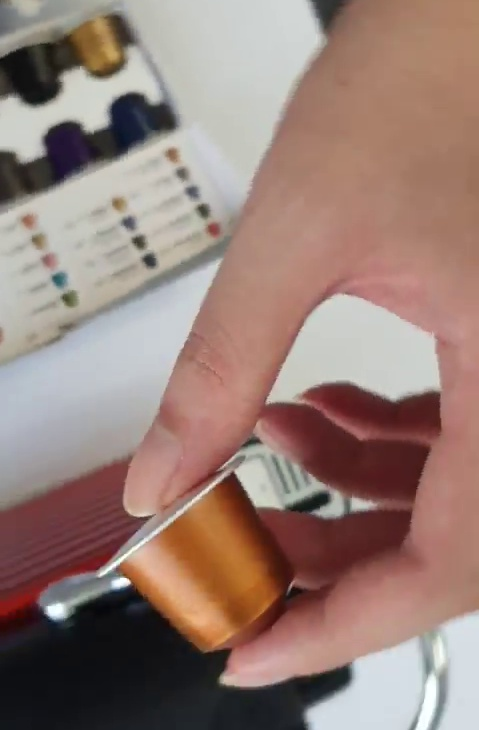capsule_3: (101, 454, 307, 653)
